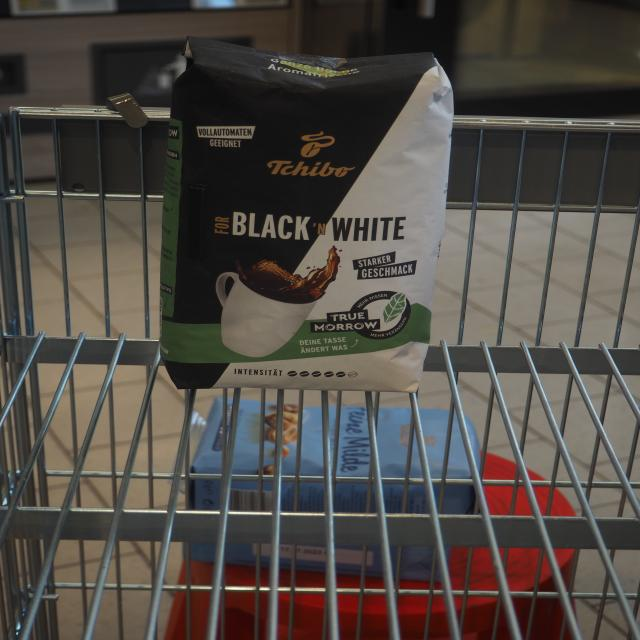BW Bohne: (151, 29, 461, 396)
